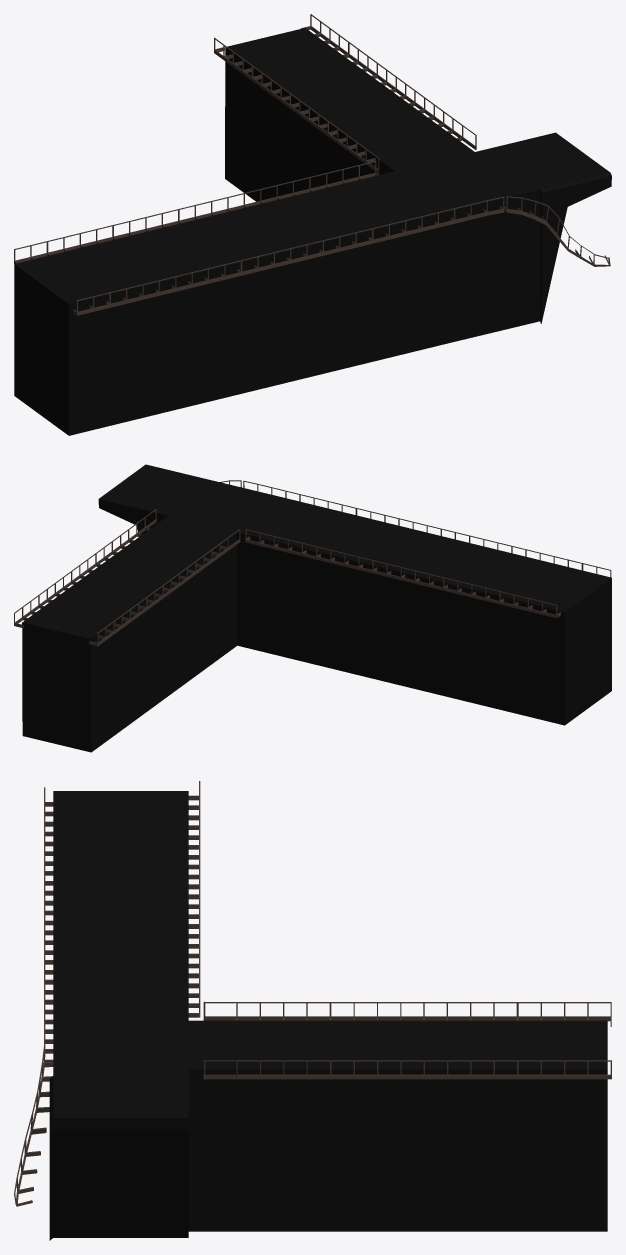
File: ground 2.fbx
The picture shows the model from 3 angles, top to bottom: view 1: azimuth 30°, elevation 25°; view 2: azimuth 150°, elevation 25°; view 3: azimuth 270°, elevation 25°; orthographic projection. The views are drawn at different scales.
Parts seen in each view (by area): view 1: ground 2; view 2: ground 2; view 3: ground 2.
Part boxes in pixels (left/top/right/bottom): ground 2: left=14, top=14, right=611, bottom=435; ground 2: left=14, top=464, right=611, bottom=752; ground 2: left=14, top=781, right=611, bottom=1240.
Bounding box in the file's own units: 3016 × 770 × 2335.
